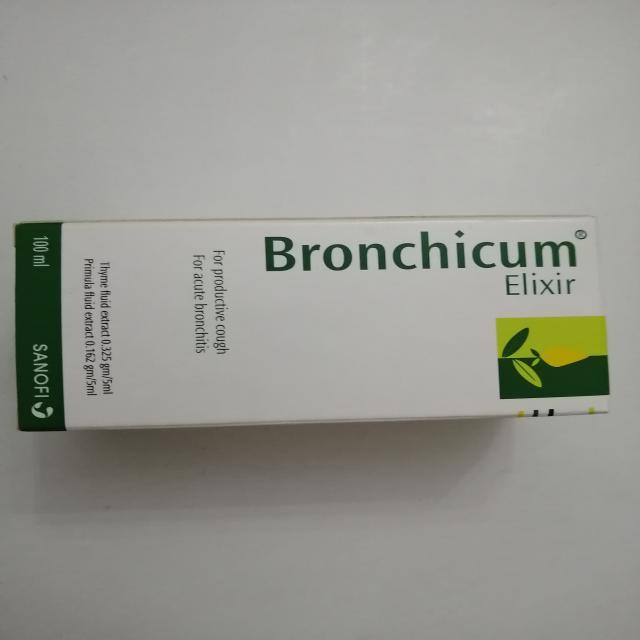Medicine Name: (250, 225, 580, 280)
